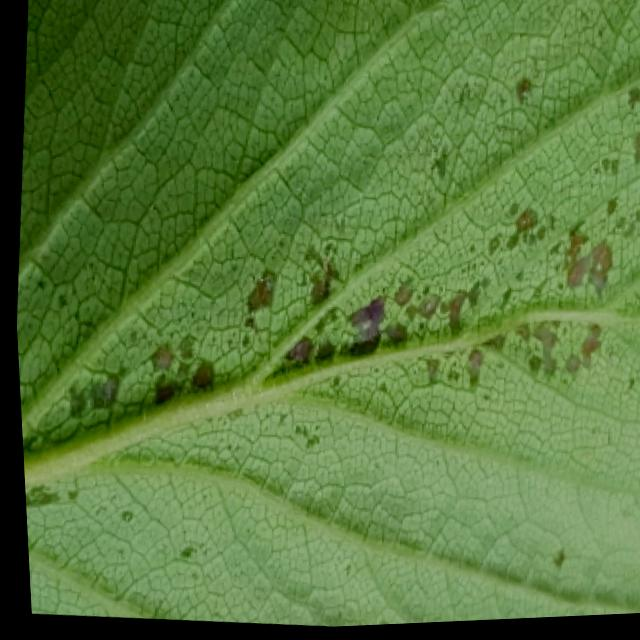Angular Leafspot: (12, 0, 640, 629)
